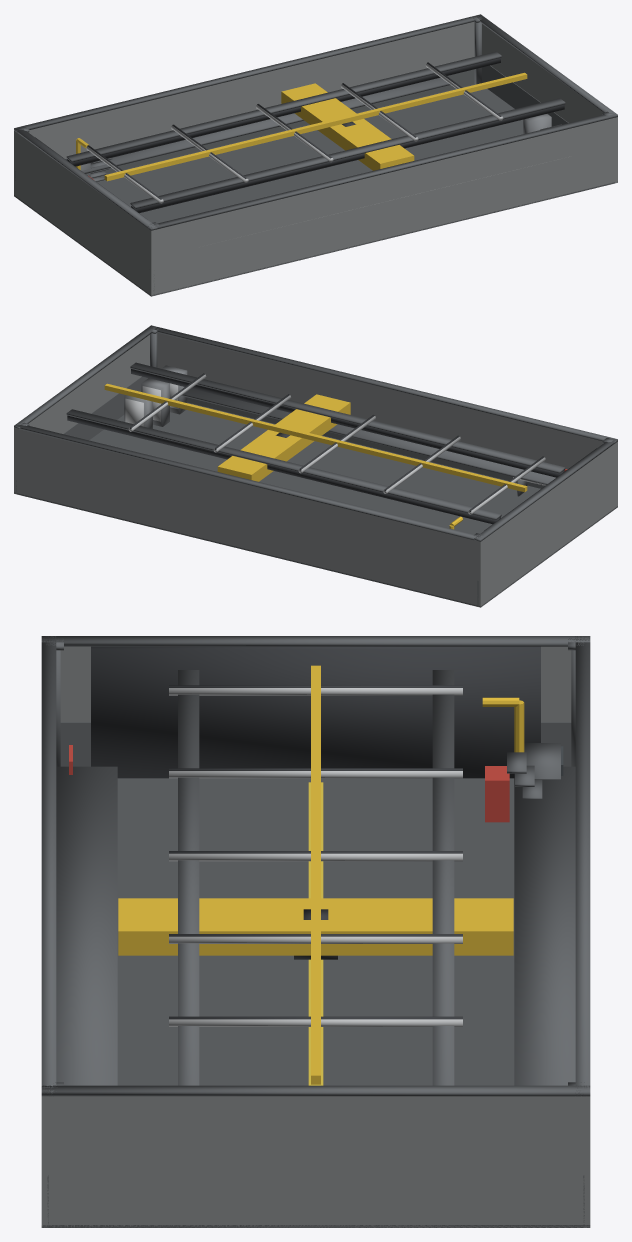
The model's file is hangar.glb.
3 views of the same model, one above another, from view 1: azimuth 30°, elevation 25°; view 2: azimuth 150°, elevation 25°; view 3: azimuth 270°, elevation 25° (orthographic). The views are drawn at different scales.
Parts seen in each view (by area): view 1: Hangar; view 2: Hangar; view 3: Hangar.
Boxes of the visible parts, x1=… form: Hangar: x1=14, y1=14, x2=617, y2=296; Hangar: x1=14, y1=325, x2=617, y2=607; Hangar: x1=41, y1=636, x2=590, y2=1227.
Size of the model in its own units: 22 by 3.06 by 11.2.
